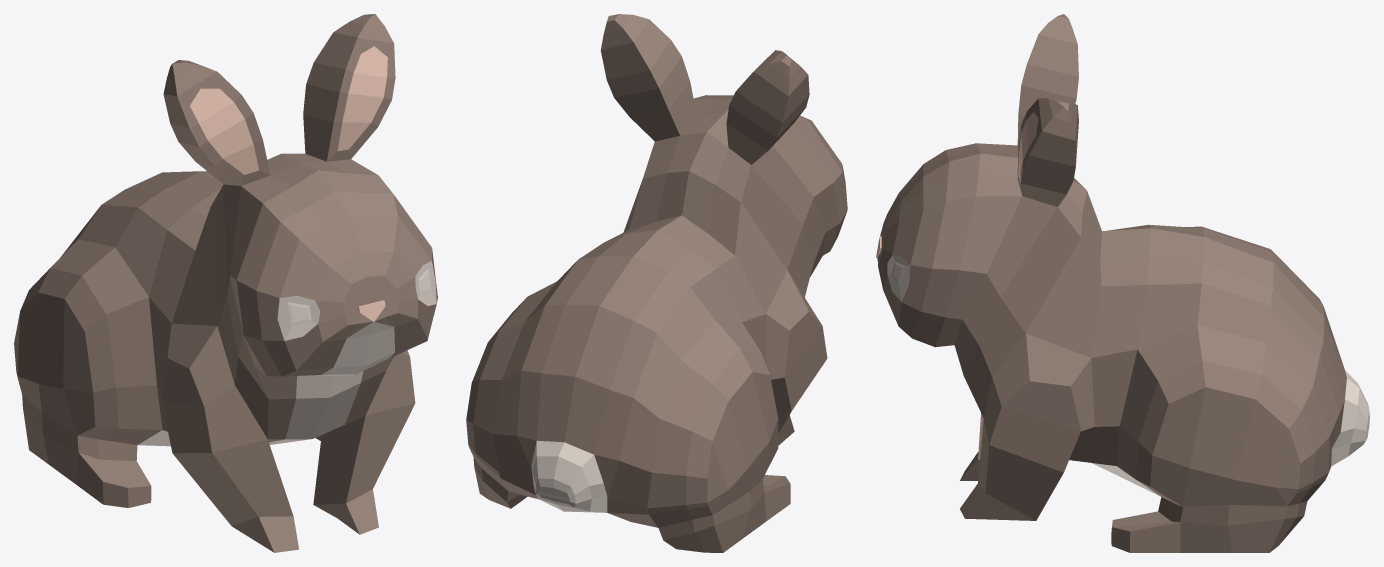
File: Dog_Textured.fbx
3 views of the same model, side by side, from view 1: azimuth 30°, elevation 25°; view 2: azimuth 150°, elevation 25°; view 3: azimuth 270°, elevation 25° (orthographic). The views are drawn at different scales.
Visible parts, largest first — view 1: Plane; view 2: Plane; view 3: Plane.
Part boxes in pixels (box(x1,y1,x2,y2)): Plane: box(14, 14, 437, 552); Plane: box(466, 14, 847, 552); Plane: box(876, 14, 1369, 552).
Size of the model in its own units: 85.36 by 132 by 135.
